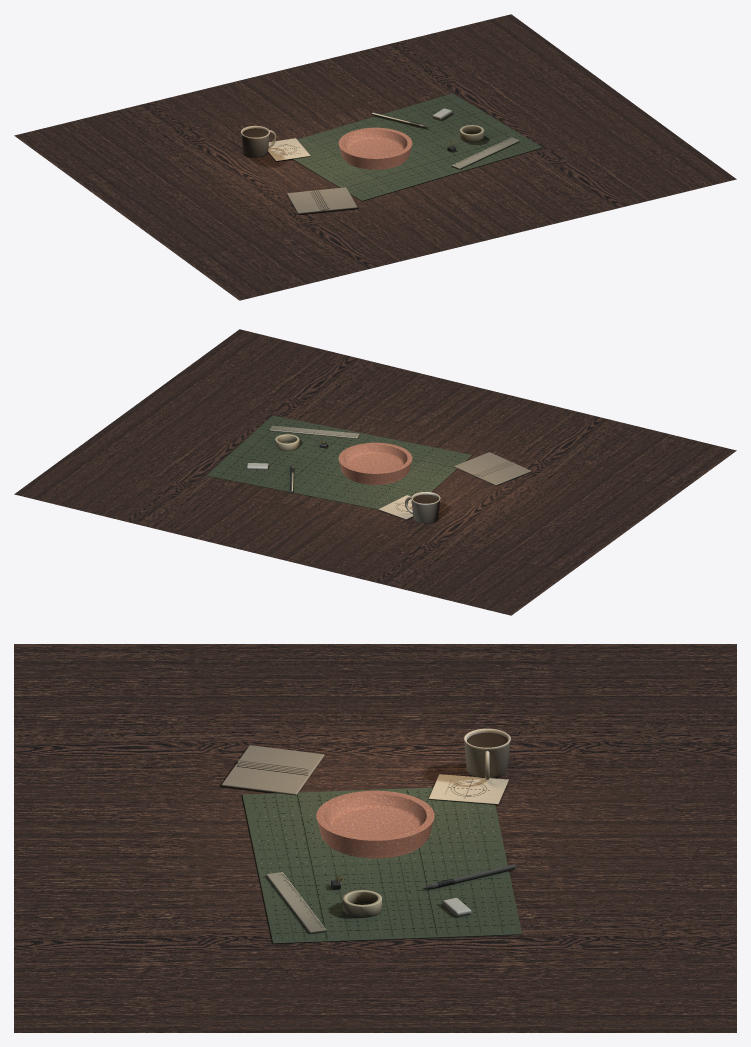
The model's file is workshop.glb.
3 views of the same model, one above another, from view 1: azimuth 30°, elevation 25°; view 2: azimuth 150°, elevation 25°; view 3: azimuth 270°, elevation 25° (orthographic). The views are drawn at different scales.
Visible parts, largest first — view 1: BakedWood, BakedMat, BakedProps, Official Lusion coaster; view 2: BakedWood, BakedMat, BakedProps, Official Lusion coaster; view 3: BakedWood, BakedMat, BakedProps, Official Lusion coaster.
Part boxes in pixels (x1,y1,x2,y2): BakedWood: (14, 14, 736, 300); BakedMat: (292, 93, 542, 200); BakedProps: (240, 108, 519, 214); Official Lusion coaster: (338, 127, 412, 169); BakedWood: (14, 329, 736, 615); BakedMat: (206, 415, 471, 509); BakedProps: (246, 425, 531, 523); Official Lusion coaster: (338, 442, 412, 484); BakedWood: (14, 644, 736, 1032); BakedMat: (242, 787, 521, 943); BakedProps: (221, 728, 515, 933); Official Lusion coaster: (316, 790, 434, 858).
Bounding box in the file's own units: 70 × 2.82 × 55.
4 materials, 4 textured.
